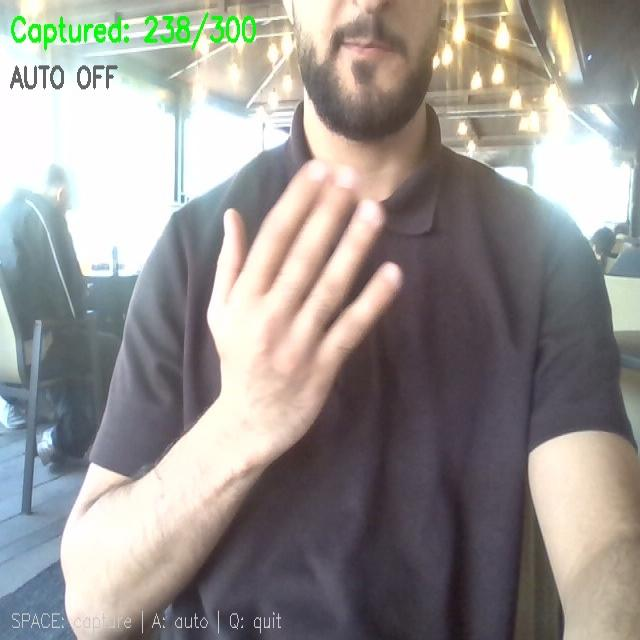Hand: (208, 162, 401, 458)
